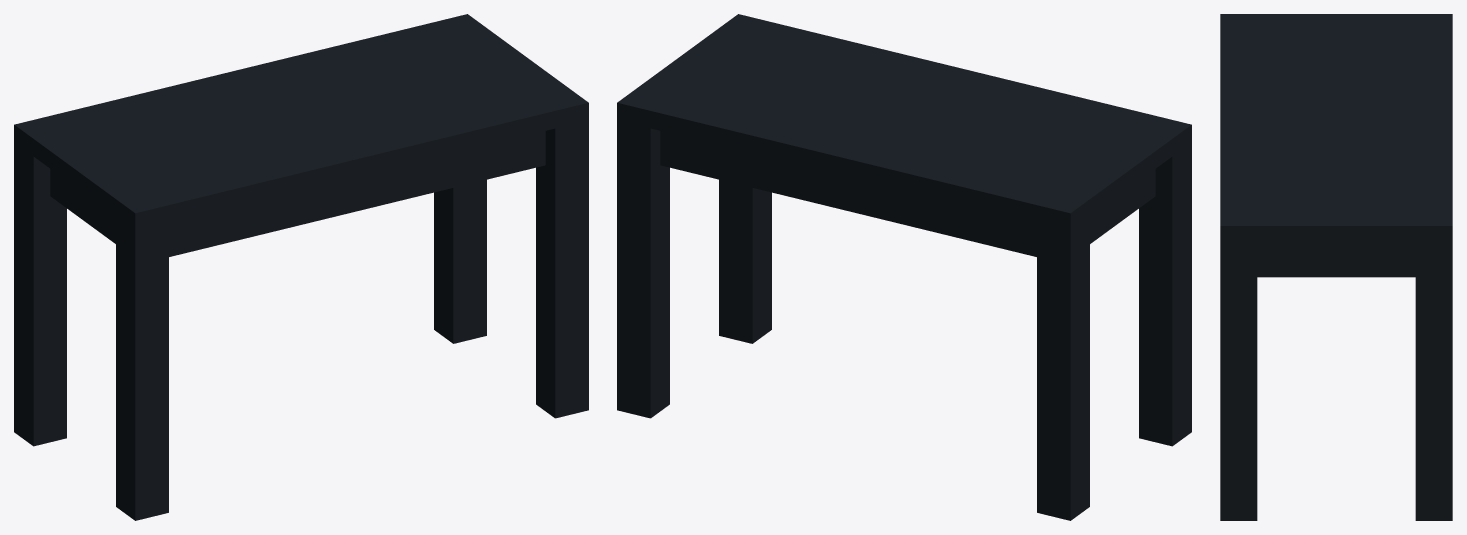
File: table50.obj
3 views of the same model, side by side, from view 1: azimuth 30°, elevation 25°; view 2: azimuth 150°, elevation 25°; view 3: azimuth 270°, elevation 25° (orthographic). The views are drawn at different scales.
Bounding box in the file's own units: 5.4 × 3.5 × 2.5.
Materials: 1 (1 with a texture image).
